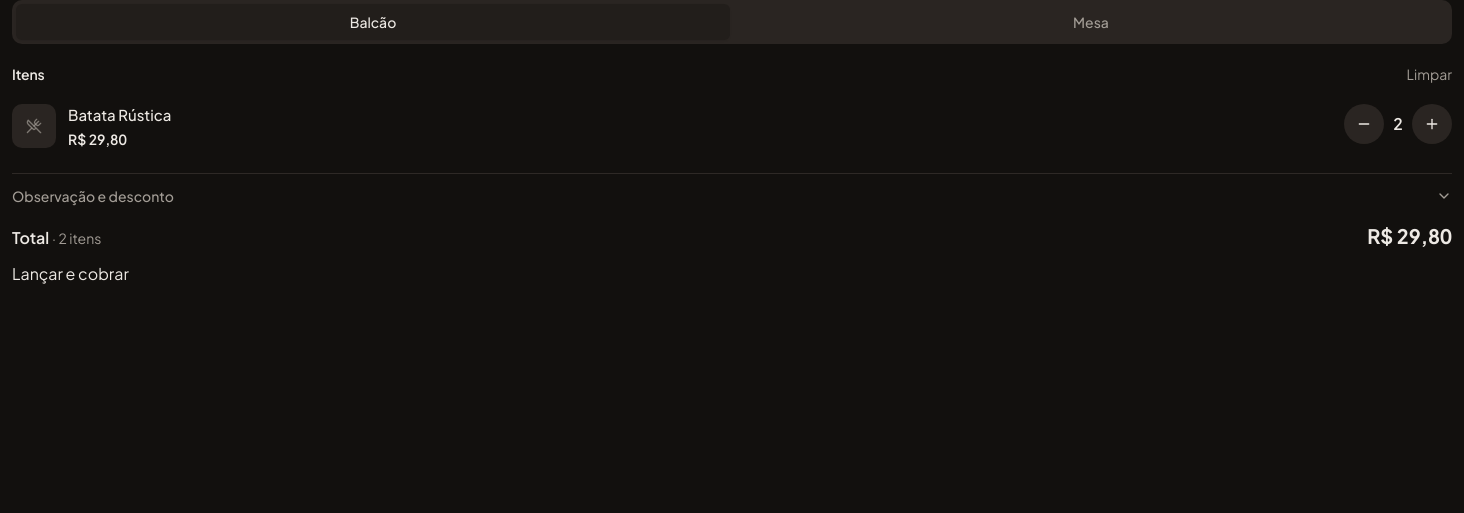
Test: OrderTicket › shows subtotal and discount when a discount is given
Click the button "Observação e desconto".
click(93, 196)  # box [12,186,1452,206]
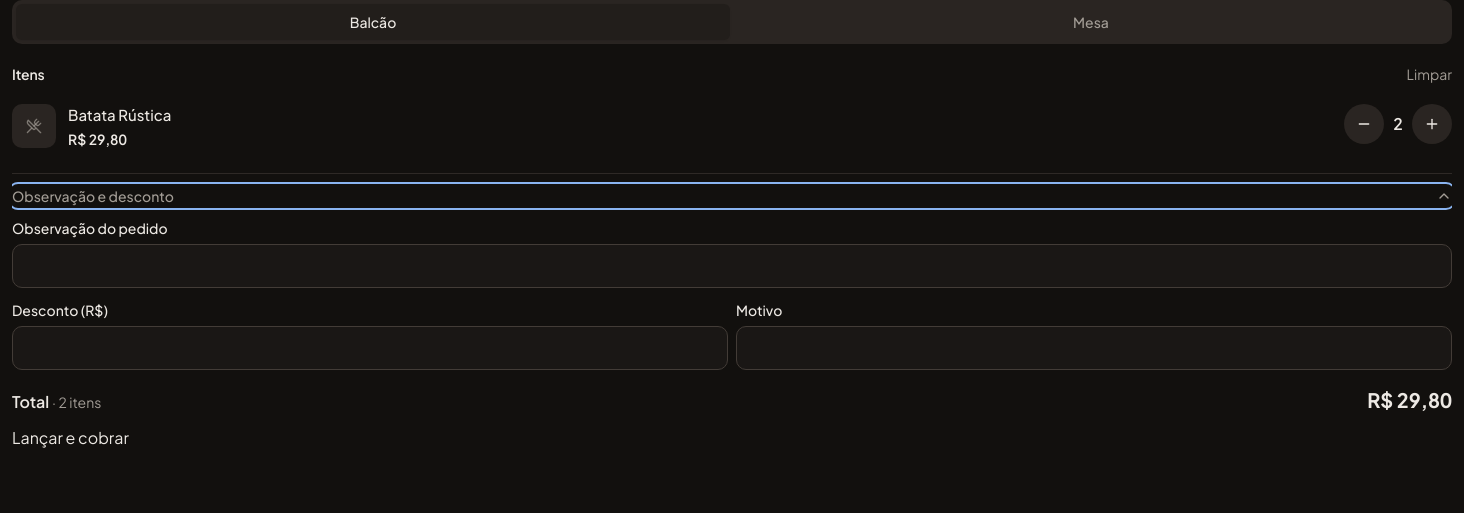
Type "5" into the field labelled "Desconto (R$)".
click(370, 348); type("5")  # box [12,326,728,370]
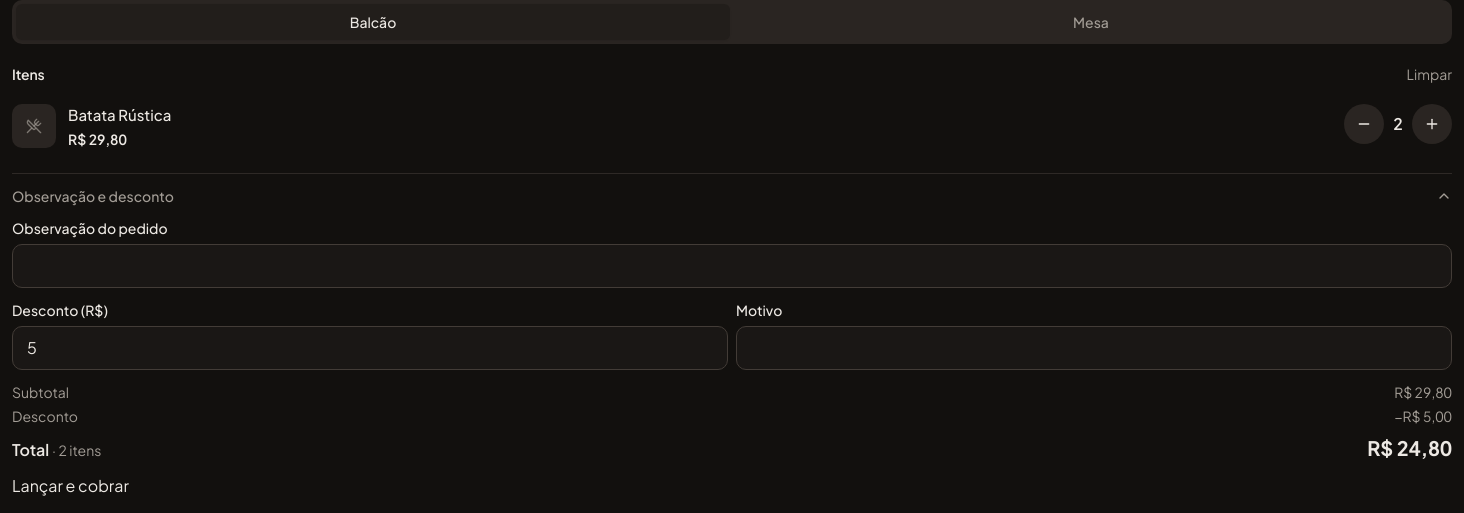
Expected: the text "Subtotal" is shown, [12,382,69,402]
Expected: the text "−R$ 5,00" is shown, [1394,406,1452,426]
Expected: the text "R$ 24,80" is shown, [1367,434,1452,462]
